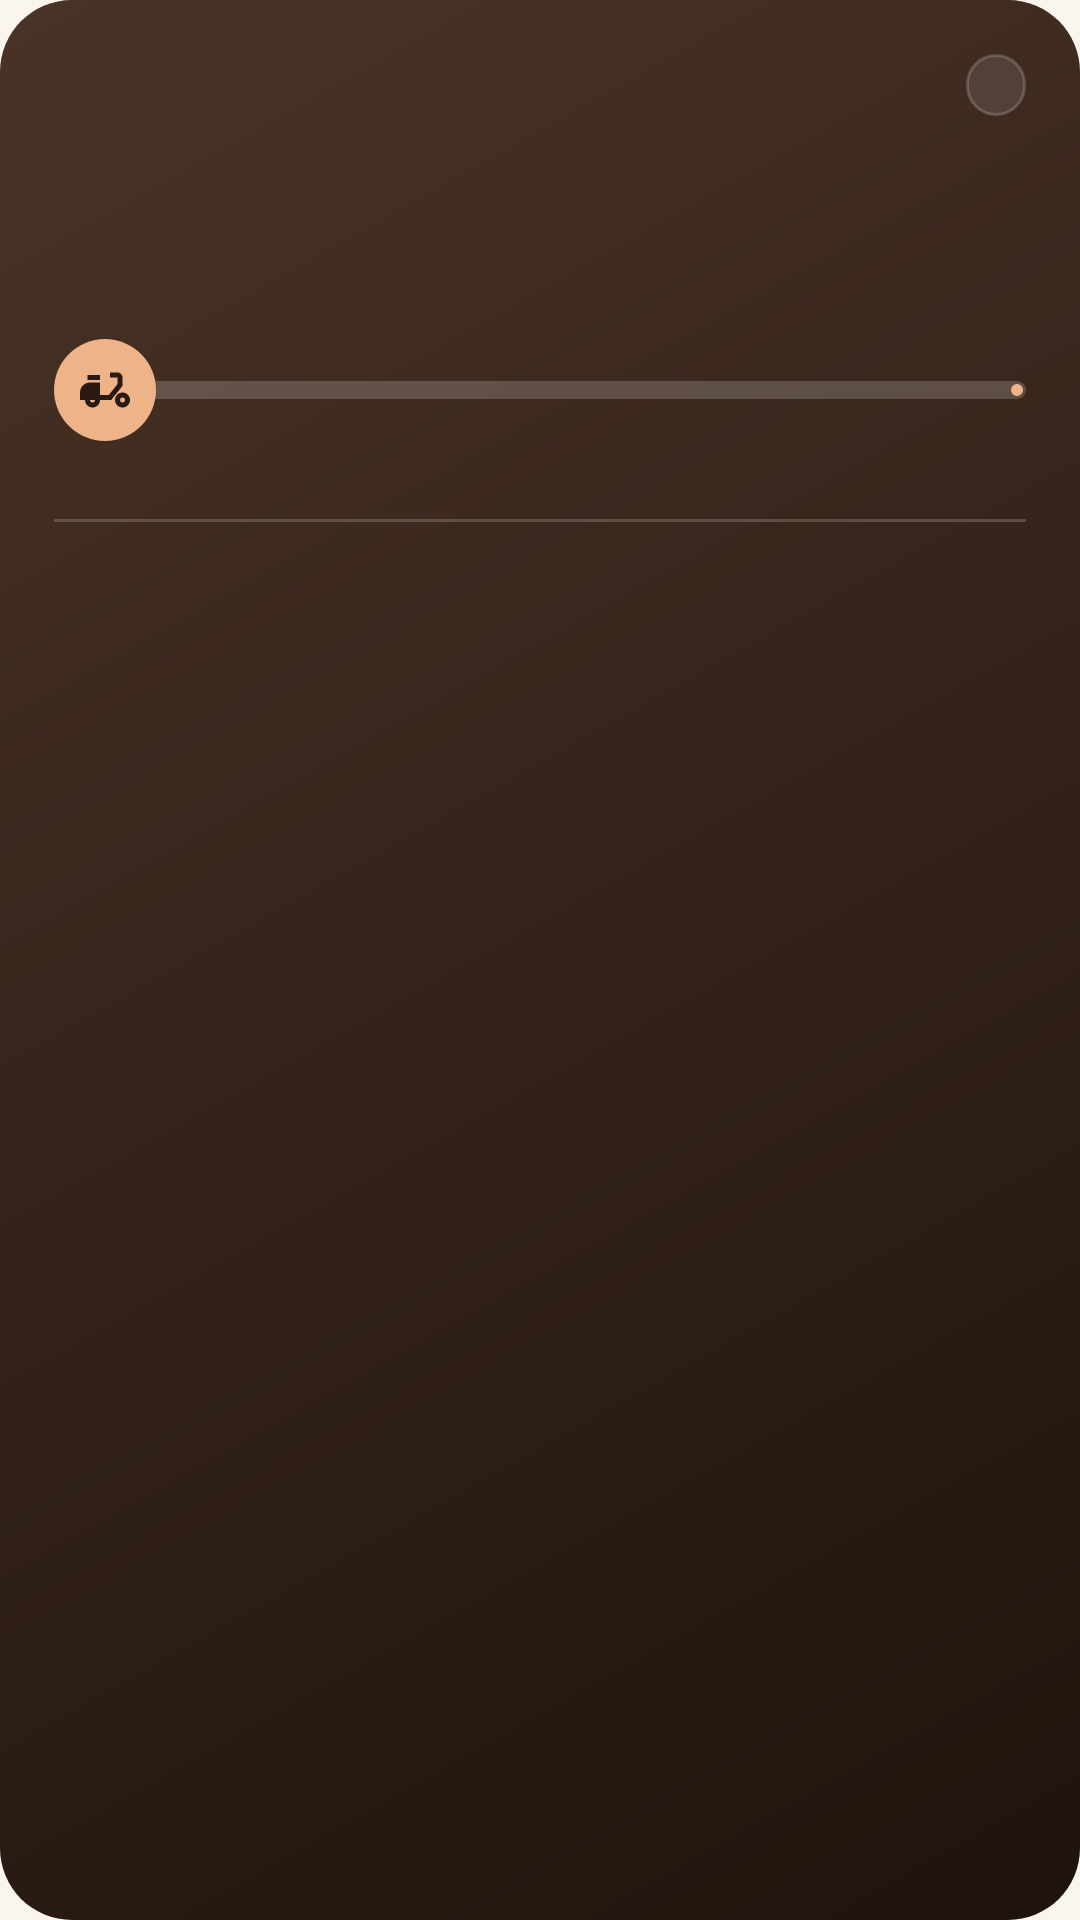

Icons on this 1080×1920 Android screen, each with its box as (x1, y1, x2, y2):
delivery: (54, 339, 156, 441)
